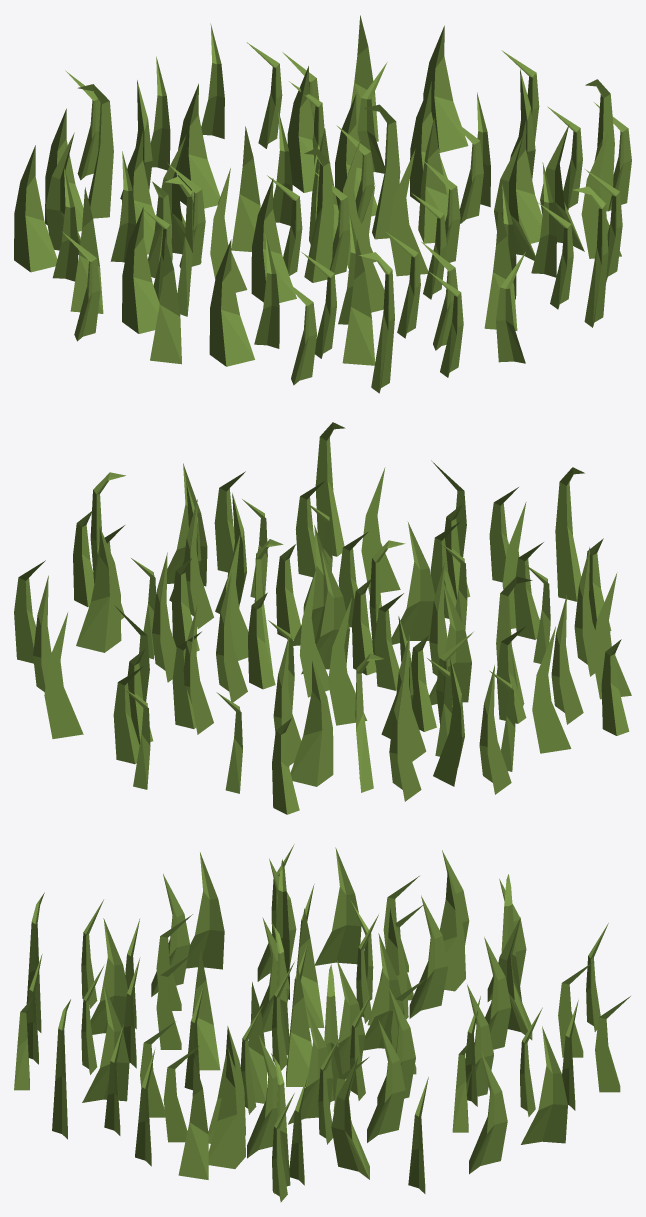
Rendered from single.fbx.
3 renders of one model, top to bottom at view 1: azimuth 30°, elevation 25°; view 2: azimuth 150°, elevation 25°; view 3: azimuth 270°, elevation 25°, orthographic. The views are drawn at different scales.
Visible parts, largest first — view 1: node_id101.001; view 2: node_id101.001; view 3: node_id101.001.
Boxes of the visible parts, x1,y1,x2,y2 form: node_id101.001: (14,15,631,393); node_id101.001: (14,422,631,814); node_id101.001: (14,844,630,1202).
Size of the model in its own units: 512 by 117 by 509.
